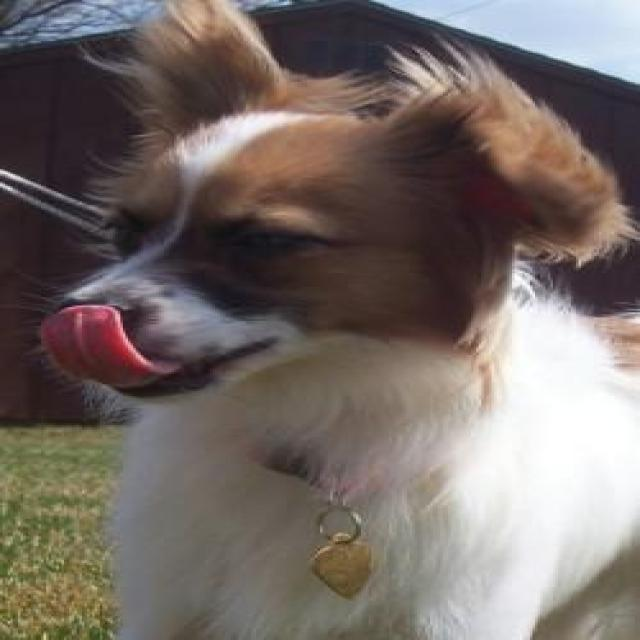papillon: (38, 2, 638, 638)
